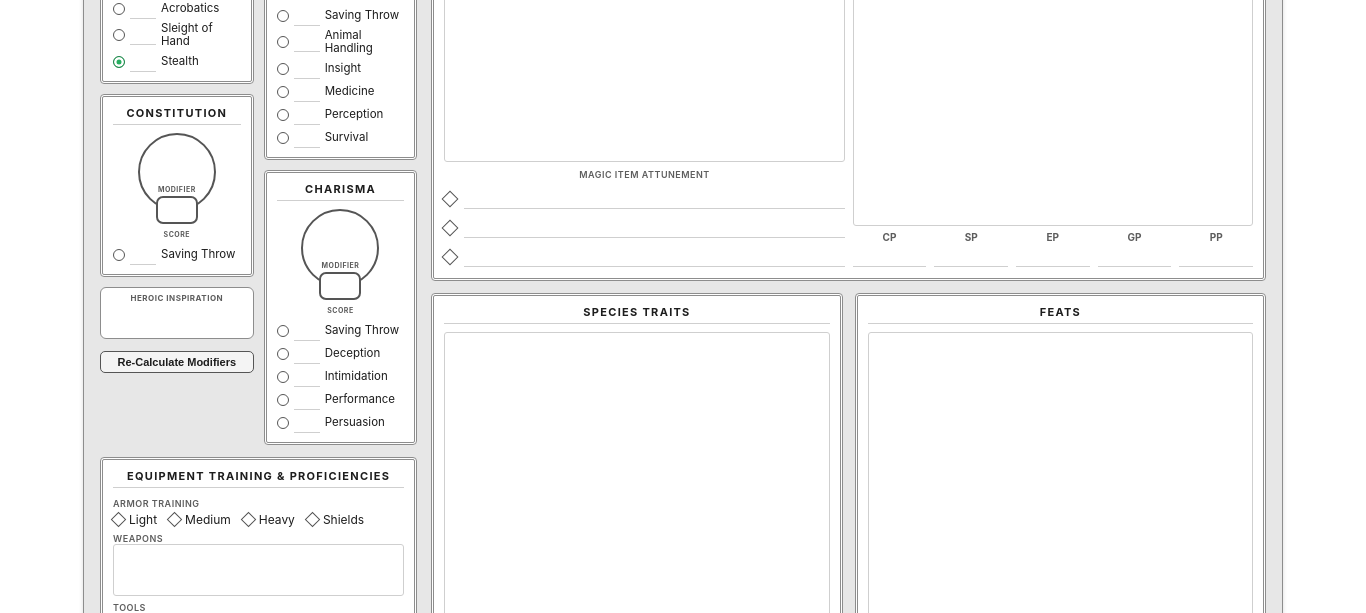
CharacterSheet › recalculates saves and skills from the proficiency bonus
This screenshot has width=1366, height=613.
(page scrolled)
Click the button "Re-Calculate Modifiers".
click(177, 362)  # box [100,351,254,373]
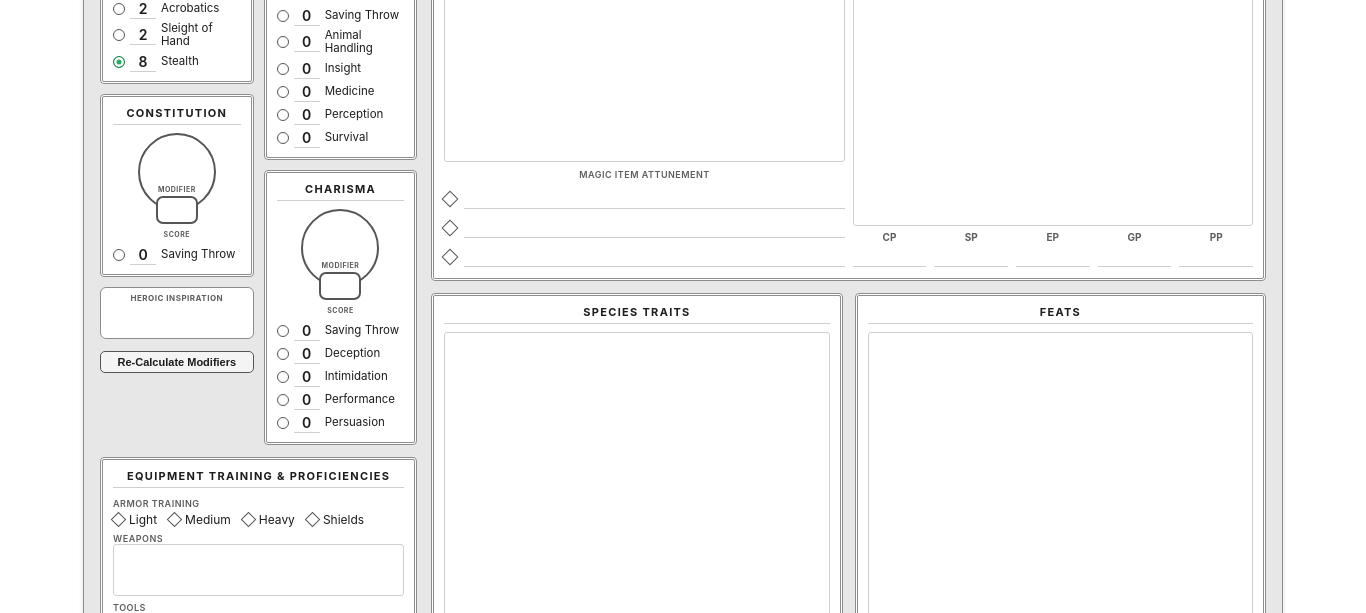
Expected: the field showing "8" next to "Stealth" is shown, [130,52,156,72]
